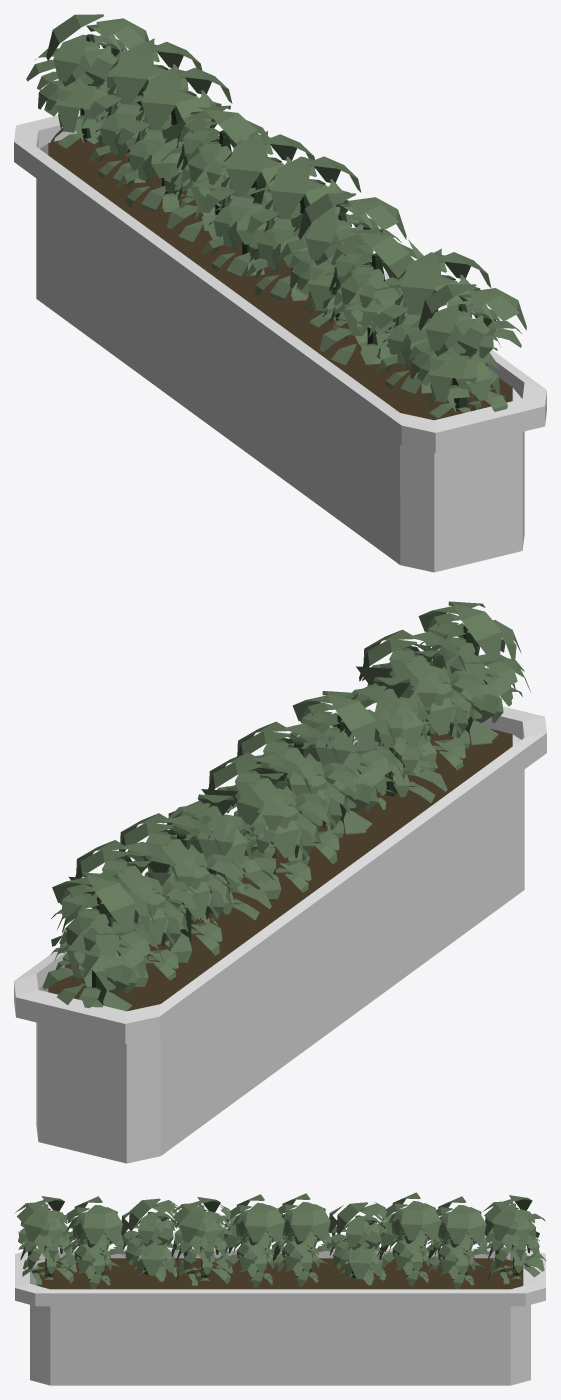
File: saksi_bitkili_150x30x30.glb
The picture shows the model from 3 angles, top to bottom: view 1: azimuth 30°, elevation 25°; view 2: azimuth 150°, elevation 25°; view 3: azimuth 270°, elevation 25°; orthographic projection. The views are drawn at different scales.
Parts seen in each view (by area): view 1: Planter_150x30x30_White, Dirt, Plant_10_Leaves, Plant_1_Leaves, Plant_3_Leaves, Plant_8_Leaves, Plant_5_Leaves, Plant_7_Leaves, Plant_6_Leaves, Plant_9_Leaves, Plant_4_Leaves, Plant_2_Leaves; view 2: Planter_150x30x30_White, Dirt, Plant_1_Leaves, Plant_5_Leaves, Plant_3_Leaves, Plant_10_Leaves, Plant_9_Leaves, Plant_6_Leaves, Plant_7_Leaves, Plant_2_Leaves, Plant_8_Leaves, Plant_4_Leaves; view 3: Planter_150x30x30_White, Dirt, Plant_6_Leaves, Plant_3_Leaves, Plant_9_Leaves, Plant_1_Leaves, Plant_7_Leaves, Plant_2_Leaves, Plant_10_Leaves, Plant_4_Leaves, Plant_5_Leaves, Plant_8_Leaves.
Part boxes in pixels (bbox=[...]): Planter_150x30x30_White: bbox=[14, 110, 546, 572]; Dirt: bbox=[48, 135, 512, 420]; Plant_10_Leaves: bbox=[398, 284, 526, 418]; Plant_1_Leaves: bbox=[26, 14, 149, 149]; Plant_3_Leaves: bbox=[117, 67, 232, 218]; Plant_8_Leaves: bbox=[319, 228, 417, 365]; Plant_5_Leaves: bbox=[195, 121, 315, 276]; Plant_7_Leaves: bbox=[278, 193, 406, 327]; Plant_6_Leaves: bbox=[246, 156, 361, 306]; Plant_9_Leaves: bbox=[369, 239, 491, 394]; Plant_4_Leaves: bbox=[167, 105, 274, 241]; Plant_2_Leaves: bbox=[81, 38, 202, 184]; Planter_150x30x30_White: bbox=[14, 706, 546, 1163]; Dirt: bbox=[48, 729, 512, 1011]; Plant_1_Leaves: bbox=[42, 872, 164, 1011]; Plant_5_Leaves: bbox=[201, 752, 330, 899]; Plant_3_Leaves: bbox=[119, 813, 241, 962]; Plant_10_Leaves: bbox=[418, 601, 530, 748]; Plant_9_Leaves: bbox=[356, 629, 485, 771]; Plant_6_Leaves: bbox=[237, 718, 358, 865]; Plant_7_Leaves: bbox=[292, 691, 404, 837]; Plant_2_Leaves: bbox=[68, 840, 197, 986]; Plant_8_Leaves: bbox=[346, 677, 447, 809]; Plant_4_Leaves: bbox=[162, 794, 271, 922]; Planter_150x30x30_White: bbox=[15, 1248, 545, 1385]; Dirt: bbox=[37, 1258, 523, 1289]; Plant_6_Leaves: bbox=[218, 1194, 290, 1288]; Plant_3_Leaves: bbox=[375, 1192, 440, 1286]; Plant_9_Leaves: bbox=[62, 1196, 135, 1289]; Plant_1_Leaves: bbox=[482, 1195, 546, 1284]; Plant_7_Leaves: bbox=[172, 1197, 232, 1285]; Plant_2_Leaves: bbox=[426, 1196, 494, 1289]; Plant_10_Leaves: bbox=[15, 1196, 76, 1285]; Plant_4_Leaves: bbox=[326, 1202, 389, 1285]; Plant_5_Leaves: bbox=[271, 1193, 343, 1287]; Plant_8_Leaves: bbox=[119, 1198, 179, 1281].
Size of the model in its own units: 0.3 by 0.5264 by 1.51.
